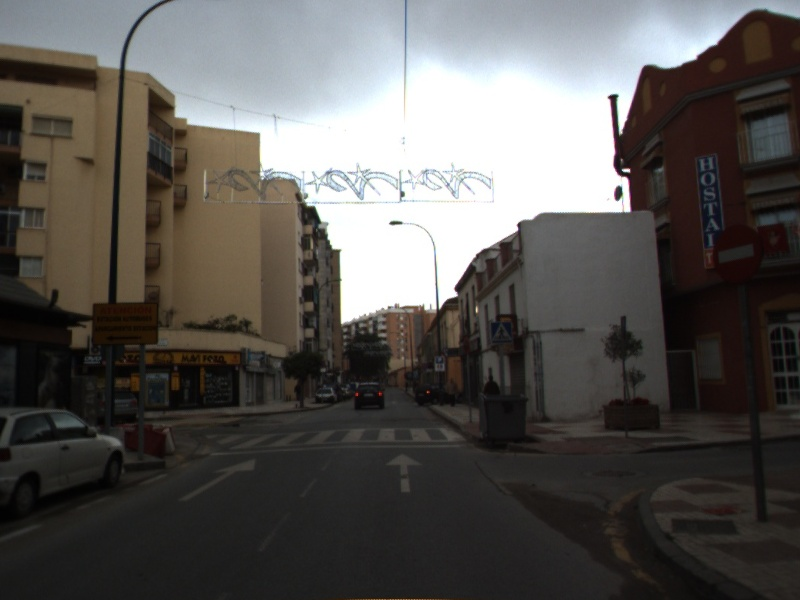STRAIGHT: (177, 456, 258, 503), (383, 451, 425, 495)
